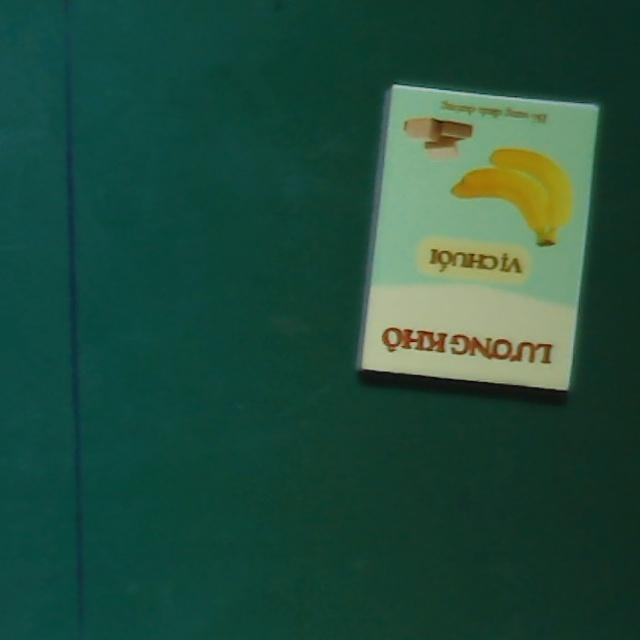chuoi: (356, 83, 603, 394)
